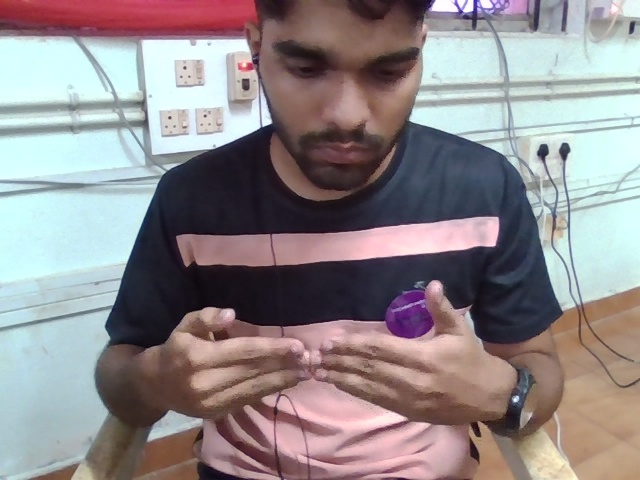more: (153, 269, 504, 448)
